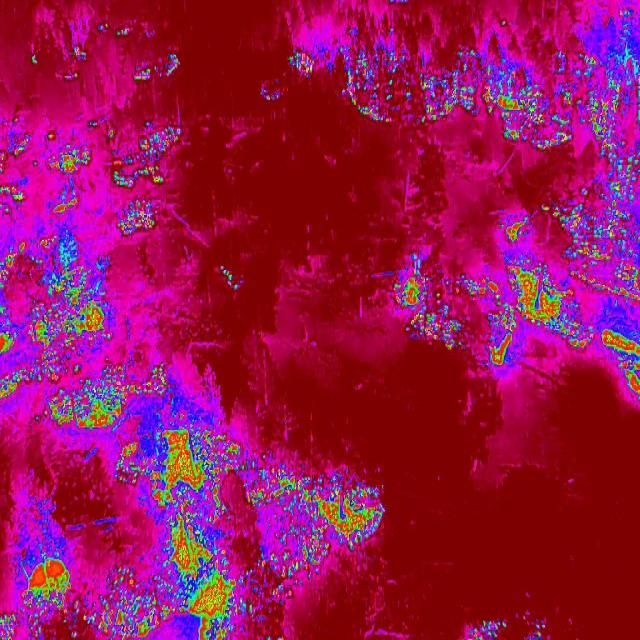fire: (0, 117, 196, 228), (334, 30, 484, 135), (242, 463, 392, 555), (42, 357, 180, 439), (0, 118, 95, 224), (483, 65, 581, 157), (32, 233, 106, 351), (147, 426, 238, 516), (508, 260, 597, 352), (541, 184, 640, 260), (578, 49, 640, 154), (91, 568, 173, 638), (177, 572, 245, 640), (161, 521, 227, 584), (599, 319, 640, 407), (404, 306, 470, 353), (20, 553, 72, 606), (0, 358, 60, 403), (259, 552, 325, 590), (442, 270, 508, 306), (604, 248, 640, 312), (487, 304, 520, 370), (112, 439, 150, 489), (134, 52, 182, 86), (500, 207, 532, 252), (0, 240, 29, 289), (394, 267, 422, 311), (605, 150, 640, 184), (0, 324, 22, 360), (219, 262, 242, 296), (288, 50, 314, 80), (97, 19, 131, 39), (68, 40, 89, 62), (261, 85, 283, 104), (63, 68, 79, 82), (28, 53, 42, 66)
